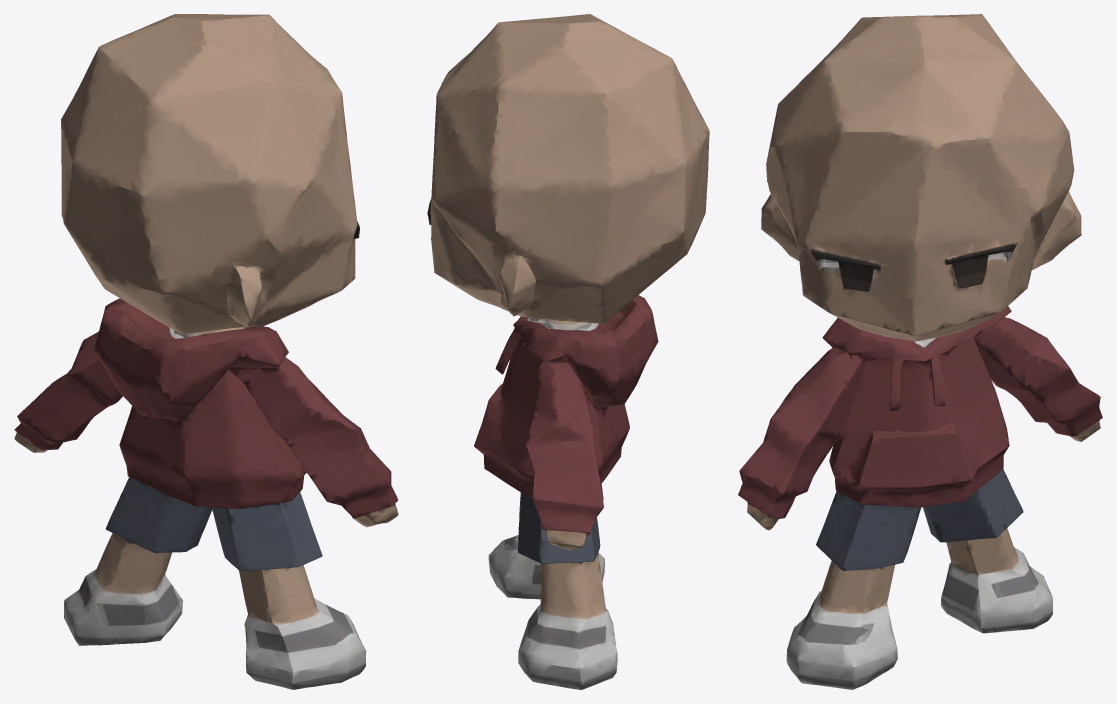
The model's file is dressed.glb.
3 views of the same model, side by side, from view 1: azimuth 30°, elevation 25°; view 2: azimuth 150°, elevation 25°; view 3: azimuth 270°, elevation 25° (orthographic). The views are drawn at different scales.
Visible parts, largest first — view 1: tripo_node_9188bdd9-f214-441c-85f6-4c79fd7d90f6; view 2: tripo_node_9188bdd9-f214-441c-85f6-4c79fd7d90f6; view 3: tripo_node_9188bdd9-f214-441c-85f6-4c79fd7d90f6.
Part boxes in pixels (x1=…): tripo_node_9188bdd9-f214-441c-85f6-4c79fd7d90f6: x1=14, y1=14, x2=398, y2=689; tripo_node_9188bdd9-f214-441c-85f6-4c79fd7d90f6: x1=427, y1=14, x2=709, y2=689; tripo_node_9188bdd9-f214-441c-85f6-4c79fd7d90f6: x1=738, y1=14, x2=1102, y2=689.
Bounding box in the file's own units: 0.4385 × 1 × 0.533.
Materials: 1 (1 with a texture image).
